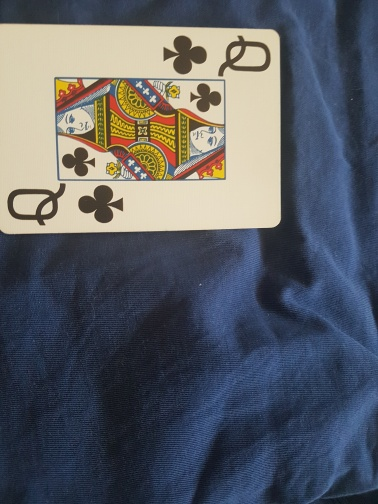queen: (1, 26, 284, 236)
